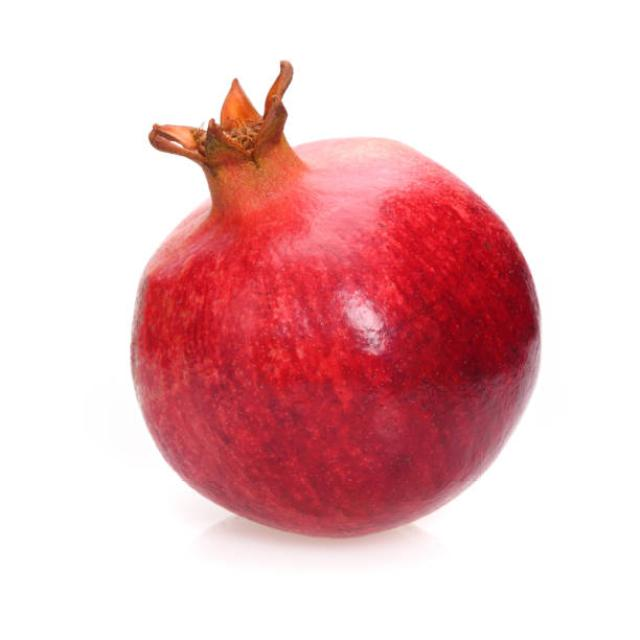Ripe: (124, 59, 546, 544)
